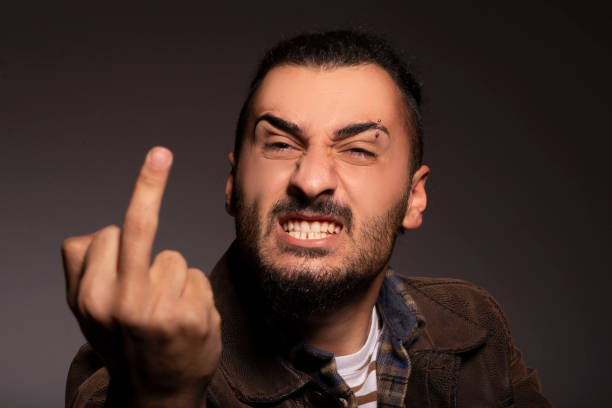insulting_gesture: (59, 143, 226, 389)
